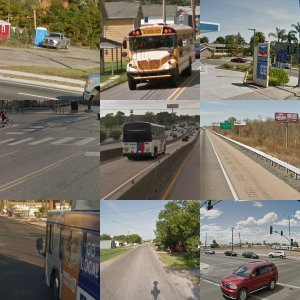公車: (200, 28, 291, 64), (38, 146, 67, 178)
汽車: (231, 245, 298, 295), (1, 27, 29, 74), (104, 54, 138, 84), (1, 156, 26, 191), (138, 53, 166, 77), (171, 250, 189, 264), (137, 248, 157, 260), (145, 149, 162, 161)
紅綠燈: (18, 223, 65, 236)
行人穿越道: (101, 80, 197, 95)
